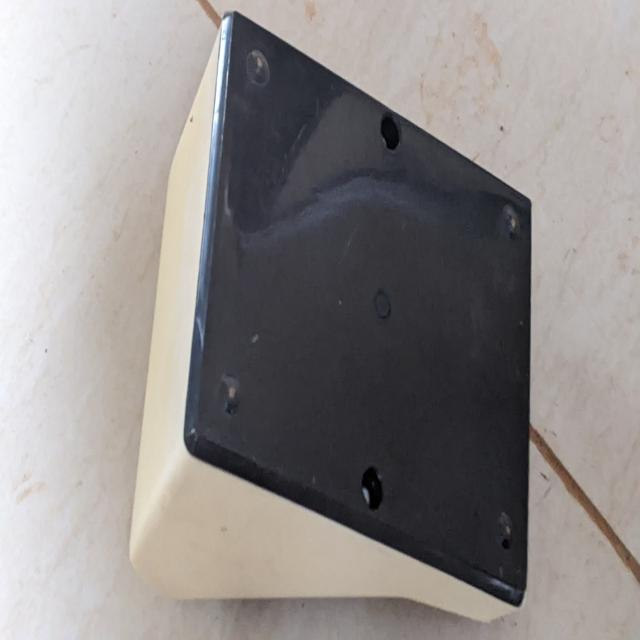Ammeter Analog: (128, 7, 544, 627)
